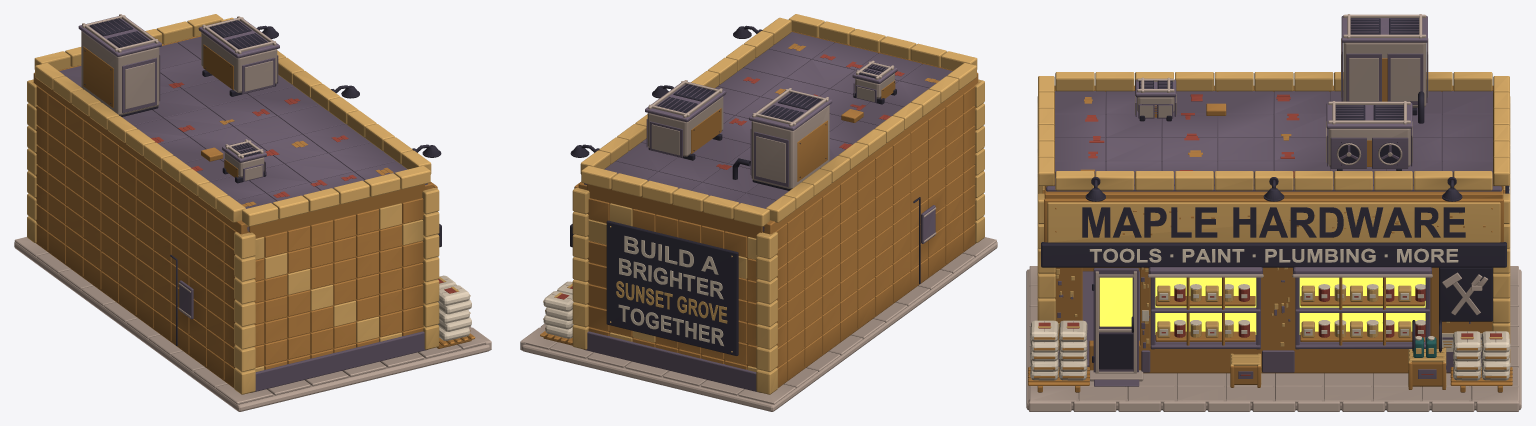
The picture shows the model from 3 angles, left to right: view 1: azimuth 30°, elevation 25°; view 2: azimuth 150°, elevation 25°; view 3: azimuth 270°, elevation 25°; orthographic projection. The views are drawn at different scales.
Visible parts, largest first — view 1: root_pal_woodWarm, roof_pal_asphalt, roof_pal_schoolBusYellow, root_pal_schoolBusYellow, root_pal_sidewalk, roof_pal_sidewalk, root_pal_asphalt, roof_pal_woodWarm, roof_pal_uiDark, root_pal_picketWhite, roof_pal_brick; view 2: root_pal_woodWarm, roof_pal_asphalt, roof_pal_schoolBusYellow, root_pal_uiDark, root_pal_schoolBusYellow, root_pal_sidewalk, roof_pal_sidewalk, root_pal_picketWhite, root_pal_asphalt, roof_pal_woodWarm, roof_pal_uiDark, roof_pal_brick; view 3: roof_pal_asphalt, root_pal_woodWarm, root_pal_sidewalk, root_pal_uiDark, roof_pal_schoolBusYellow, root_pal_schoolBusYellow, root_pal_asphalt, root_pal_picketWhite, roof_pal_sidewalk, interior_emi_windowGlow, roof_pal_uiDark, interior_pal_woodWarm (+10 smaller).
Part boxes in pixels (x1,y1,x2,y2): root_pal_woodWarm: [32, 36, 475, 387]; roof_pal_asphalt: [59, 16, 427, 231]; roof_pal_schoolBusYellow: [34, 14, 431, 226]; root_pal_schoolBusYellow: [27, 79, 458, 394]; root_pal_sidewalk: [14, 237, 491, 411]; roof_pal_sidewalk: [81, 14, 277, 180]; root_pal_asphalt: [179, 280, 427, 392]; roof_pal_woodWarm: [83, 44, 393, 206]; roof_pal_uiDark: [84, 18, 276, 183]; root_pal_picketWhite: [438, 275, 471, 340]; roof_pal_brick: [151, 82, 356, 197]; root_pal_woodWarm: [540, 31, 979, 387]; roof_pal_asphalt: [584, 32, 952, 231]; roof_pal_schoolBusYellow: [580, 14, 977, 226]; root_pal_uiDark: [570, 197, 920, 355]; root_pal_schoolBusYellow: [554, 79, 984, 394]; root_pal_sidewalk: [520, 207, 997, 411]; roof_pal_sidewalk: [647, 60, 894, 189]; root_pal_picketWhite: [543, 235, 723, 346]; root_pal_asphalt: [584, 205, 935, 392]; roof_pal_woodWarm: [691, 43, 939, 181]; roof_pal_uiDark: [648, 63, 896, 190]; roof_pal_brick: [716, 54, 904, 169]; roof_pal_asphalt: [1046, 16, 1501, 191]; root_pal_woodWarm: [1028, 85, 1512, 392]; root_pal_sidewalk: [1026, 266, 1521, 411]; root_pal_uiDark: [1041, 186, 1508, 352]; roof_pal_schoolBusYellow: [1038, 72, 1509, 190]; root_pal_schoolBusYellow: [1037, 96, 1510, 386]; root_pal_asphalt: [1057, 267, 1482, 386]; root_pal_picketWhite: [1030, 185, 1510, 380]; roof_pal_sidewalk: [1135, 14, 1428, 166]; interior_emi_windowGlow: [1155, 277, 1425, 334]; roof_pal_uiDark: [1139, 18, 1424, 170]; interior_pal_woodWarm: [1155, 296, 1424, 341].
Bounding box in the file's own units: 7.43 × 6.99 × 11.4.
